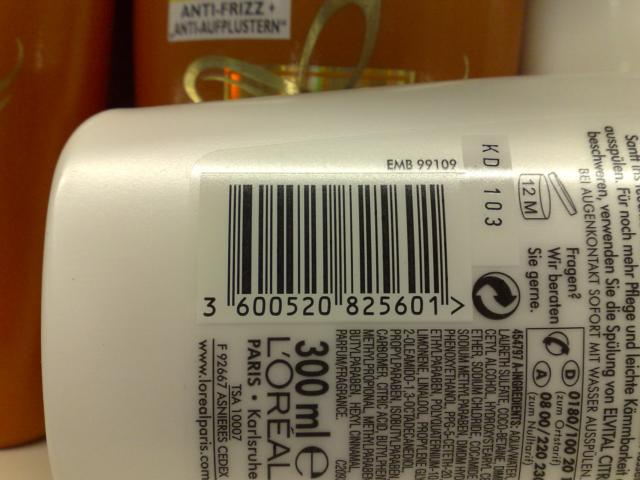Barkod: (225, 183, 448, 294)
